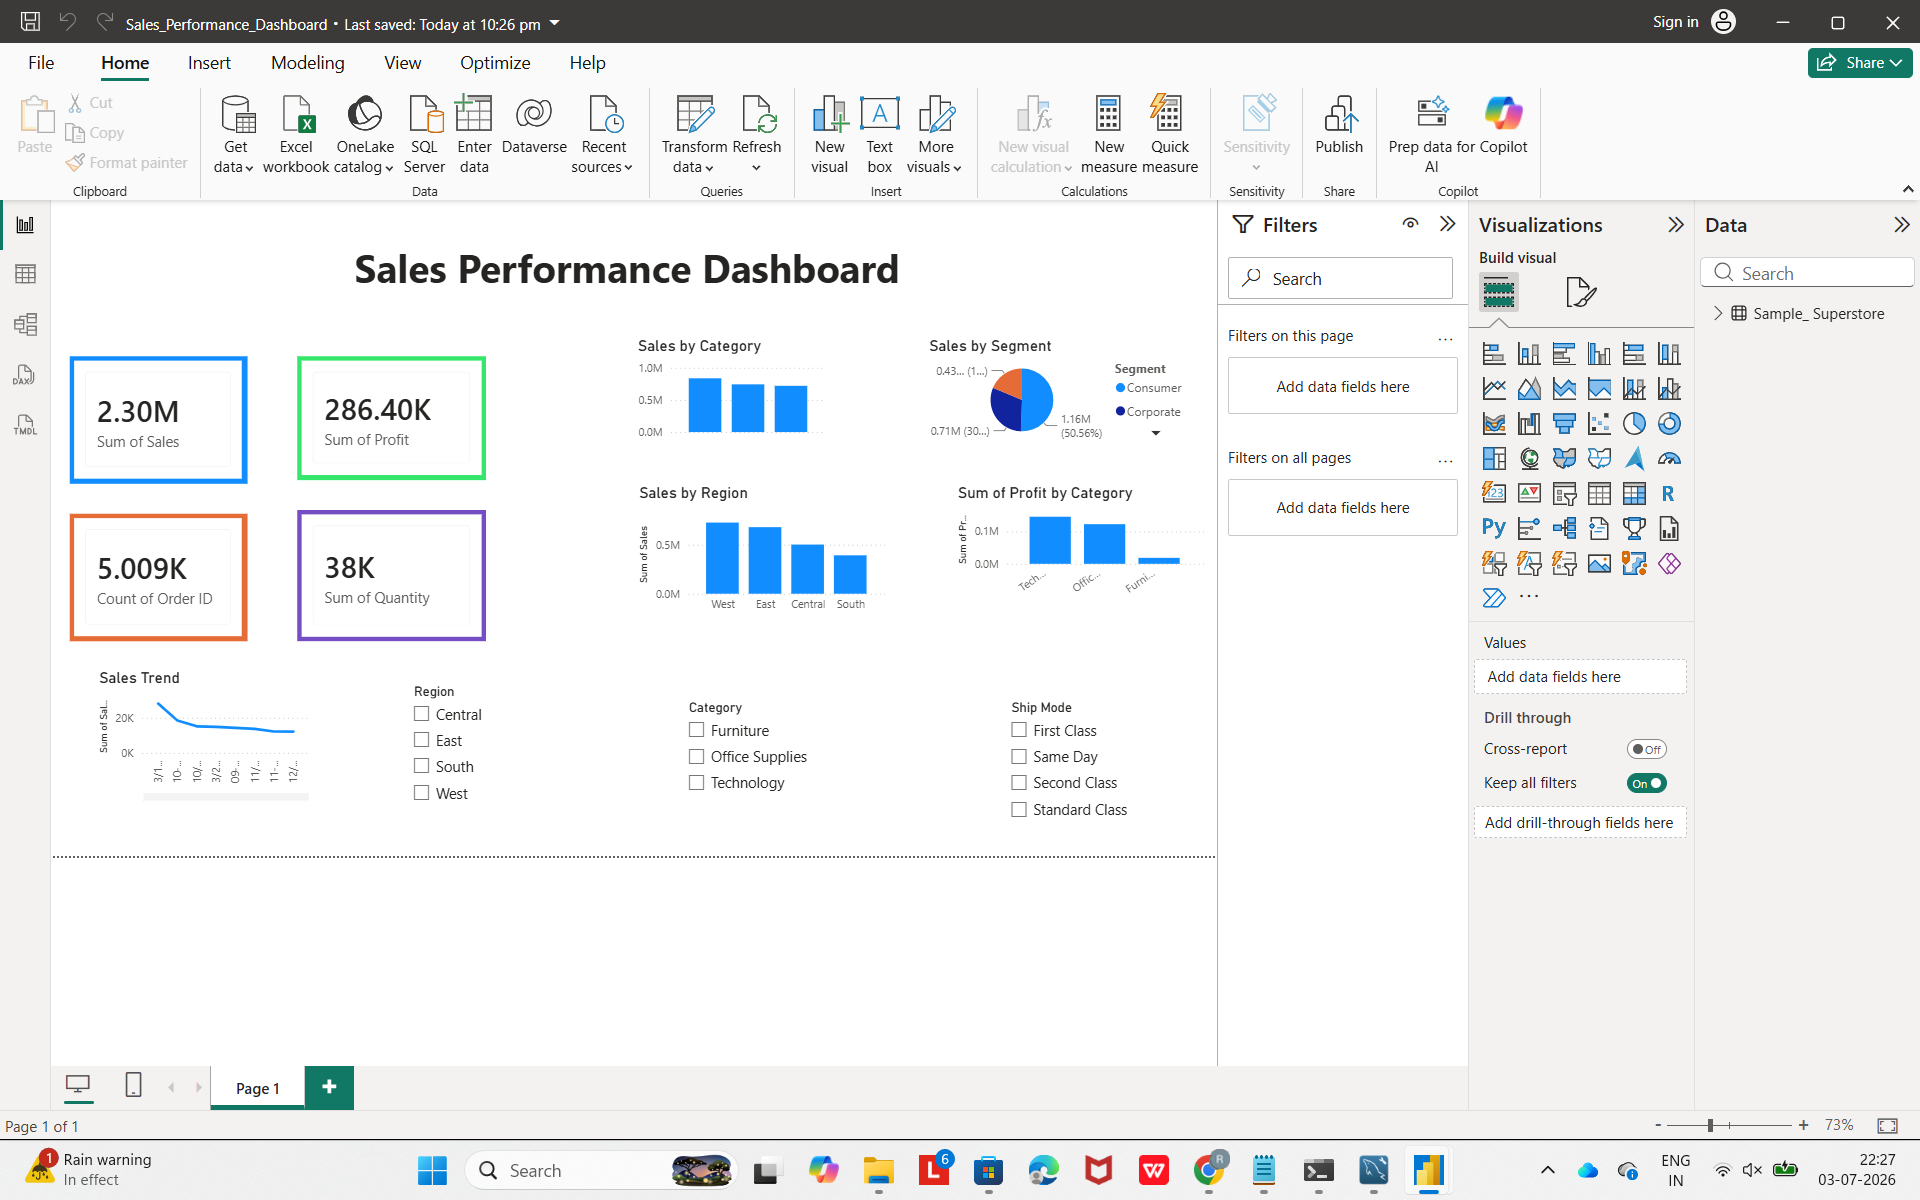

Layout of this report page (visuals, bound fields, positions):
{"tool":"powerbi","page":{"name":"Page 1","canvas":[1280,720],"ordinal":0},"visuals":[{"type":"cardVisual","fields":{"Data":["Sum(Sample_ Superstore.Sales)"]},"box":[20.6,171.5,194.9,140],"z":0},{"type":"cardVisual","fields":{"Data":["Count(Sample_ Superstore.Order ID)"]},"box":[20.6,344.4,194.9,140],"z":1000},{"type":"cardVisual","fields":{"Data":["Sum(Sample_ Superstore.Profit)"]},"box":[270.3,171.5,207.2,135.8],"z":2000},{"type":"cardVisual","fields":{"Data":["Sum(Sample_ Superstore.Quantity)"]},"box":[270.3,340.3,207.2,144.1],"z":3000},{"type":"clusteredColumnChart","title":"Sales by Category","fields":{"Category":["Sample_ Superstore.Category"],"Y":["Sum(Sample_ Superstore.Sales)"]},"box":[639.5,149.6,216.8,119.4],"z":4000},{"type":"clusteredColumnChart","title":"Sales by Region","fields":{"Category":["Sample_ Superstore.Region"],"Y":["Sum(Sample_ Superstore.Sales)"]},"box":[640.8,311.5,279.9,150.9],"z":5000},{"type":"pieChart","title":"Sales by Segment","fields":{"Category":["Sample_ Superstore.Segment"],"Y":["Sum(Sample_ Superstore.Sales)"]},"box":[959.2,149.6,301.9,119.4],"z":6000},{"type":"clusteredColumnChart","fields":{"Category":["Sample_ Superstore.Category"],"Y":["Sum(Sample_ Superstore.Profit)"]},"box":[990.7,311.5,279.9,133.1],"z":7000},{"type":"lineChart","title":" Sales Trend","fields":{"Category":["Sample_ Superstore.Order Date"],"Y":["Sum(Sample_ Superstore.Sales)"]},"box":[48,514.6,240.1,149.6],"z":8000},{"type":"slicer","fields":{"Values":["Sample_ Superstore.Region"]},"box":[385.6,525.6,208.6,149.6],"z":9000},{"type":"slicer","fields":{"Values":["Sample_ Superstore.Category"]},"box":[687.5,543.4,188,134.5],"z":10000},{"type":"slicer","fields":{"Values":["Sample_ Superstore.Ship Mode"]},"box":[1041.5,543.4,177,149.6],"z":11000},{"type":"textbox","box":[11,514.6,9.6,57.6],"z":12000},{"type":"textbox","box":[20.6,39.8,1224,74.1],"z":13000}]}

Visuals, with their boxes on the page's 1280x720 design canvas (x1, y1, x2, y2). These are canvas units, not pixel positions in the 1920x1200 screenshot, which may show the page scaled, cropped or inside an application window:
cardVisual - Sum(Sample_ Superstore.Sales): Rect(21, 172, 216, 312)
cardVisual - Count(Sample_ Superstore.Order ID): Rect(21, 344, 216, 484)
cardVisual - Sum(Sample_ Superstore.Profit): Rect(270, 172, 478, 307)
cardVisual - Sum(Sample_ Superstore.Quantity): Rect(270, 340, 478, 484)
"Sales by Category" clusteredColumnChart: Rect(640, 150, 856, 269)
"Sales by Region" clusteredColumnChart: Rect(641, 312, 921, 462)
"Sales by Segment" pieChart: Rect(959, 150, 1261, 269)
clusteredColumnChart - Sample_ Superstore.Category x Sum(Sample_ Superstore.Profit): Rect(991, 312, 1271, 445)
" Sales Trend" lineChart: Rect(48, 515, 288, 664)
slicer - Sample_ Superstore.Region: Rect(386, 526, 594, 675)
slicer - Sample_ Superstore.Category: Rect(688, 543, 876, 678)
slicer - Sample_ Superstore.Ship Mode: Rect(1042, 543, 1218, 693)
textbox: Rect(11, 515, 21, 572)
textbox: Rect(21, 40, 1245, 114)
